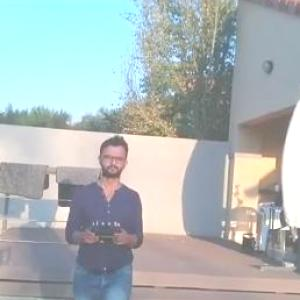follow: (61, 128, 151, 299)
